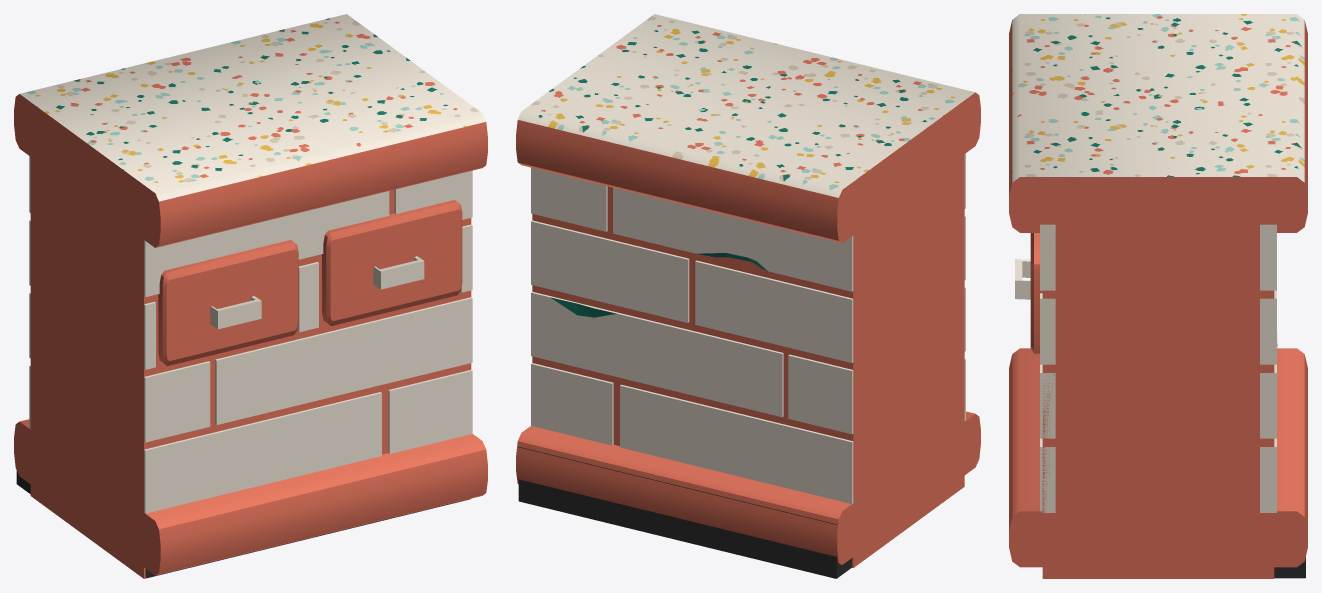
The model's file is cabinet_b.glb.
3 renders of one model, left to right at view 1: azimuth 30°, elevation 25°; view 2: azimuth 150°, elevation 25°; view 3: azimuth 270°, elevation 25°, orthographic. The views are drawn at different scales.
Visible parts, largest first — view 1: body; view 2: body; view 3: body.
Boxes of the visible parts, x1=… form: body: x1=14, y1=14, x2=487, y2=578; body: x1=516, y1=14, x2=980, y2=578; body: x1=1009, y1=14, x2=1307, y2=578.
Bounding box in the file's own units: 0.8 × 0.92 × 0.62.
Materials: 5 (1 with a texture image).
